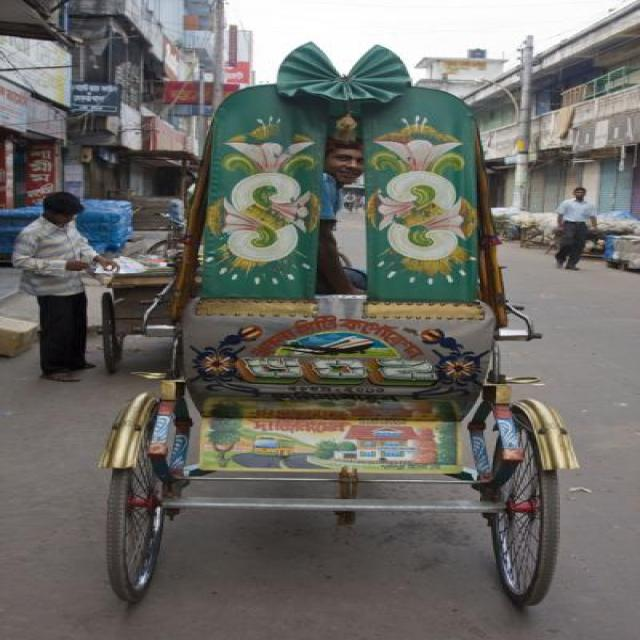Rickshaw: (77, 42, 592, 608)
